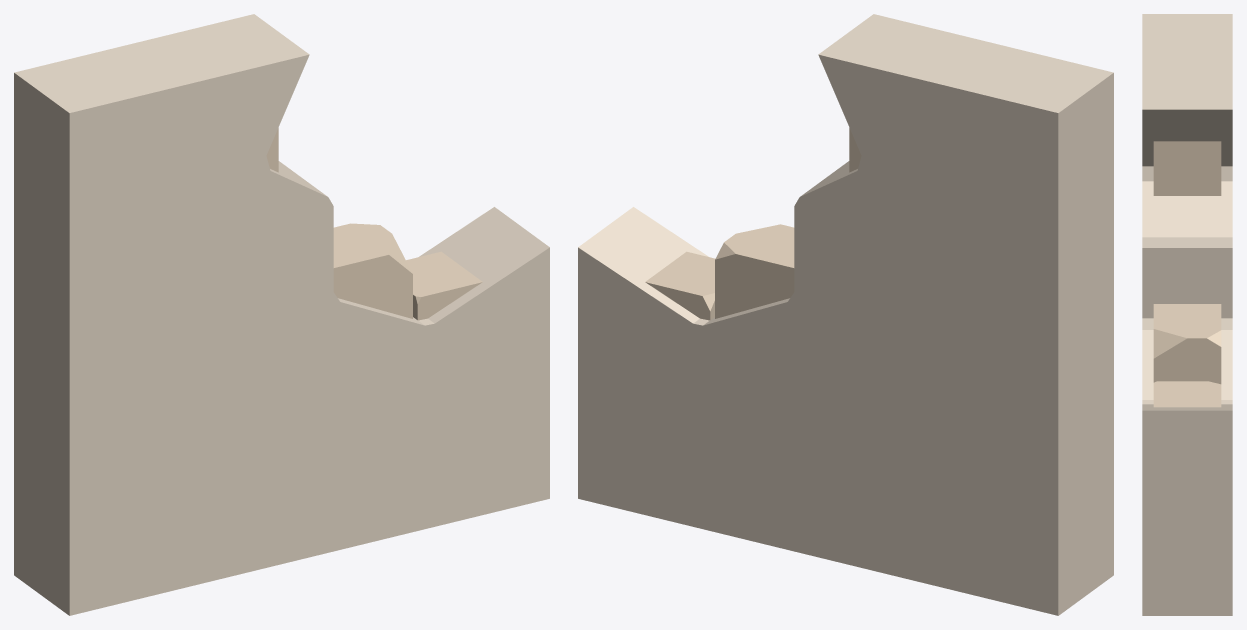
File: Wall_Ruined_Corner_Inner_2.glb
3 views of the same model, side by side, from view 1: azimuth 30°, elevation 25°; view 2: azimuth 150°, elevation 25°; view 3: azimuth 270°, elevation 25° (orthographic). The views are drawn at different scales.
Visible parts, largest first — view 1: Wall_Ruined_Corner_Inner_2; view 2: Wall_Ruined_Corner_Inner_2; view 3: Wall_Ruined_Corner_Inner_2.
Part boxes in pixels (x1,y1,x2,y2): Wall_Ruined_Corner_Inner_2: (14, 14, 549, 615); Wall_Ruined_Corner_Inner_2: (578, 14, 1113, 615); Wall_Ruined_Corner_Inner_2: (1142, 14, 1232, 615).
Bounding box in the file's own units: 1 × 1 × 0.2.
